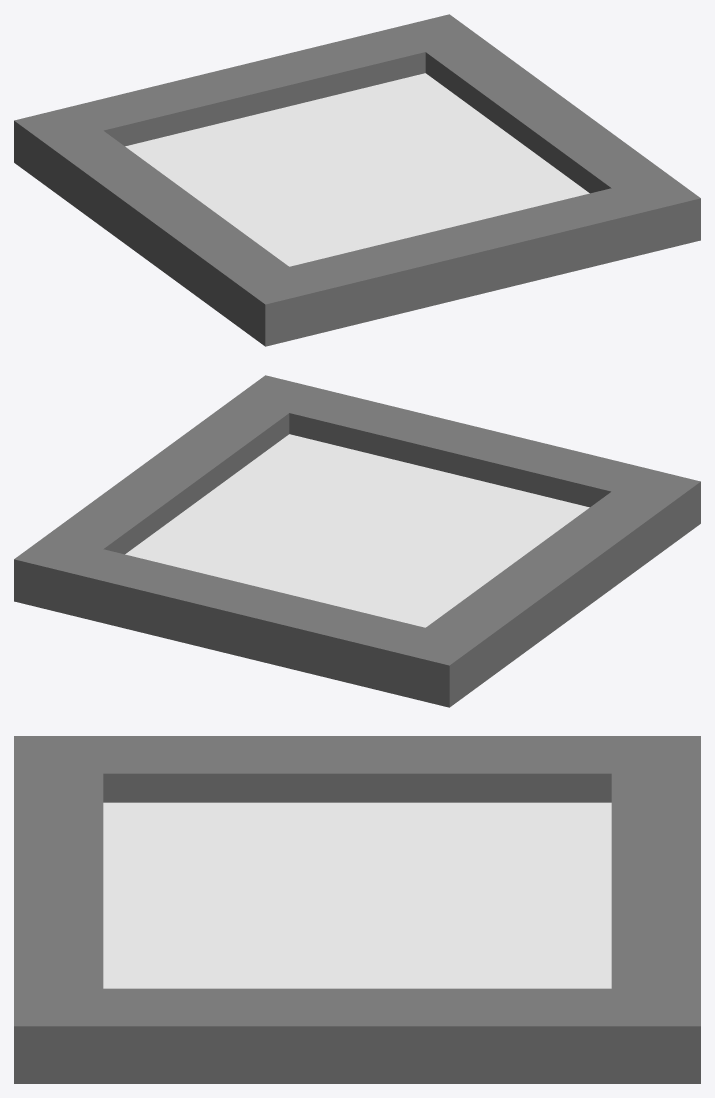
3 views of the same model, one above another, from view 1: azimuth 30°, elevation 25°; view 2: azimuth 150°, elevation 25°; view 3: azimuth 270°, elevation 25° (orthographic). The views are drawn at different scales.
Visible parts, largest first — view 1: tube, cuboid; view 2: tube, cuboid; view 3: tube, cuboid.
Part boxes in pixels (x1=…): tube: x1=14, y1=14, x2=700, y2=346; cuboid: x1=125, y1=73, x2=589, y2=266; tube: x1=14, y1=375, x2=700, y2=707; cuboid: x1=125, y1=434, x2=589, y2=627; tube: x1=14, y1=736, x2=700, y2=1083; cuboid: x1=103, y1=802, x2=611, y2=988.
Bounding box in the file's own units: 135 × 12.5 × 135.
